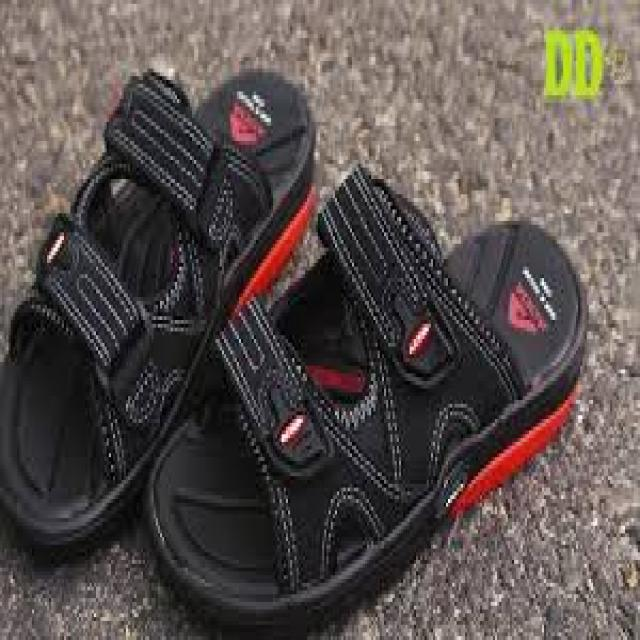shoe: (2, 62, 593, 622), (138, 163, 586, 610), (0, 62, 316, 565)
